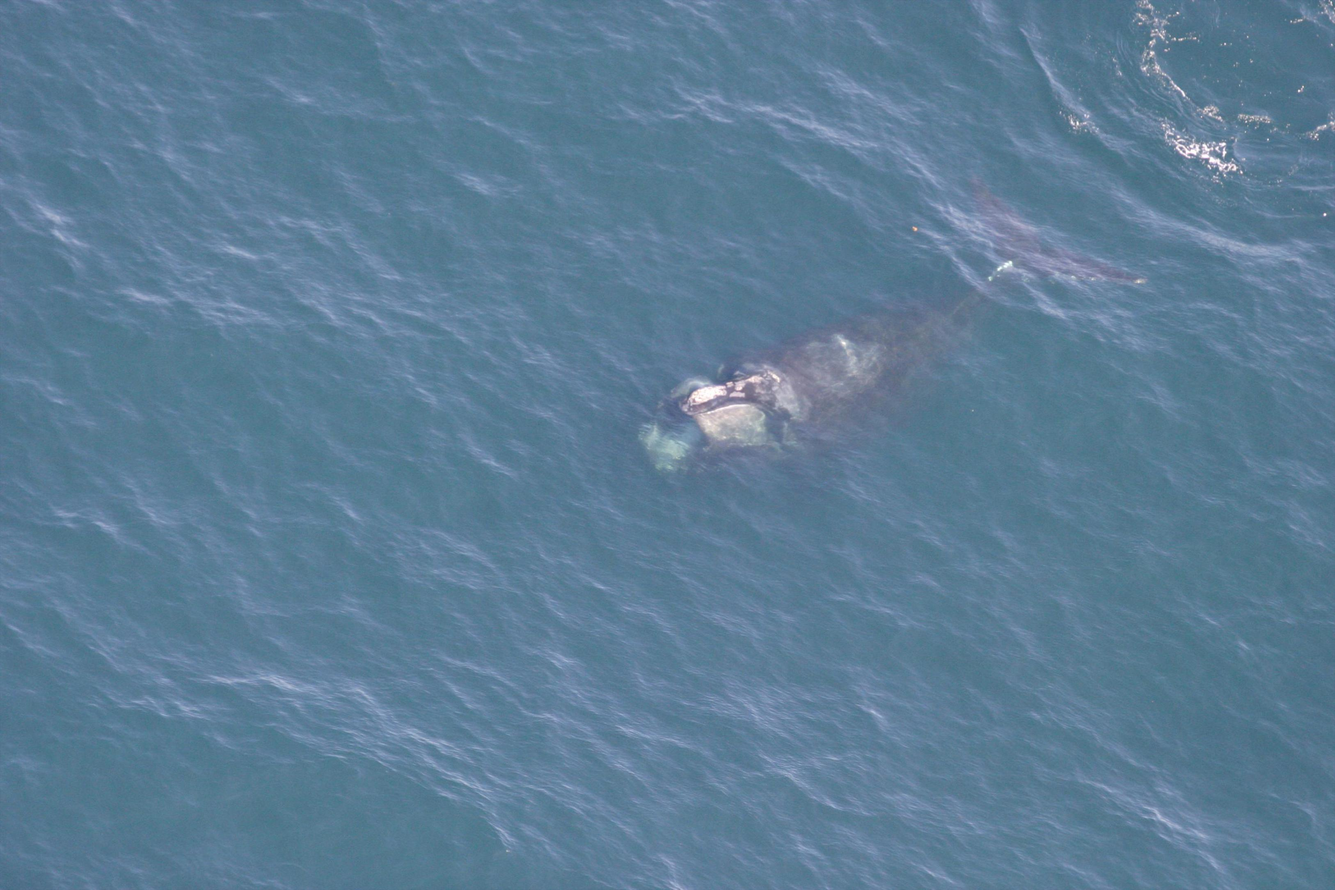whale: (630, 160, 1156, 494)
